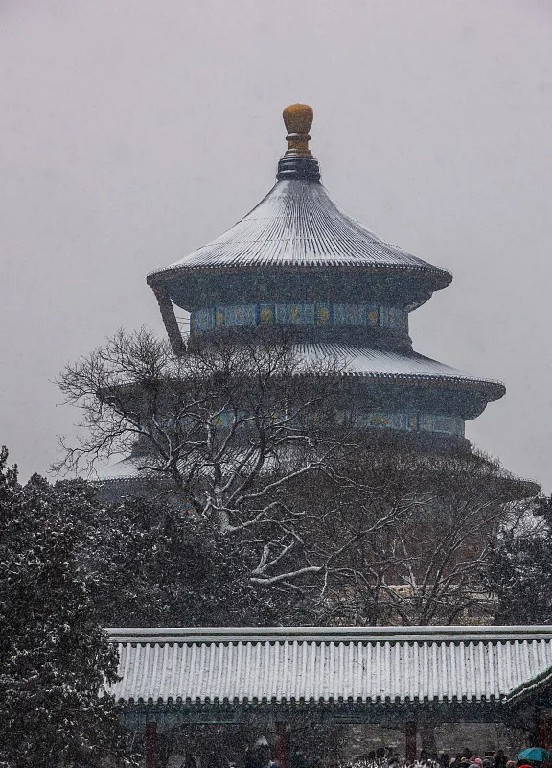Heaven: (90, 103, 541, 580)
